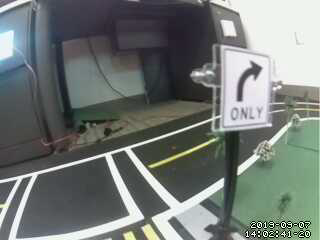Right_only_sign: (215, 42, 273, 128)
